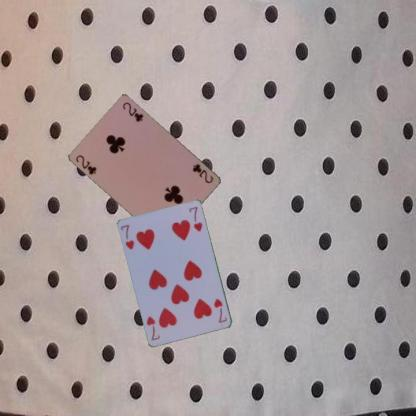2c: (74, 152, 98, 177), (190, 162, 214, 184)
7h: (118, 222, 136, 251), (212, 296, 228, 324)
